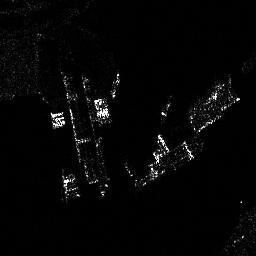ship: (110, 70, 120, 98)
